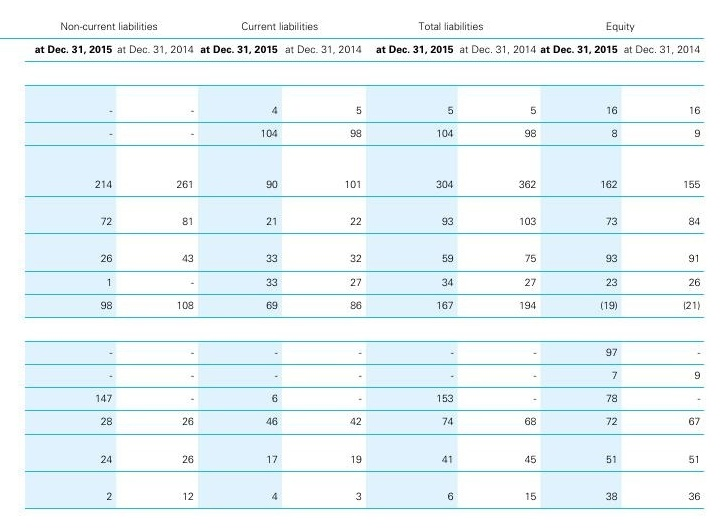table: (0, 0, 721, 530)
